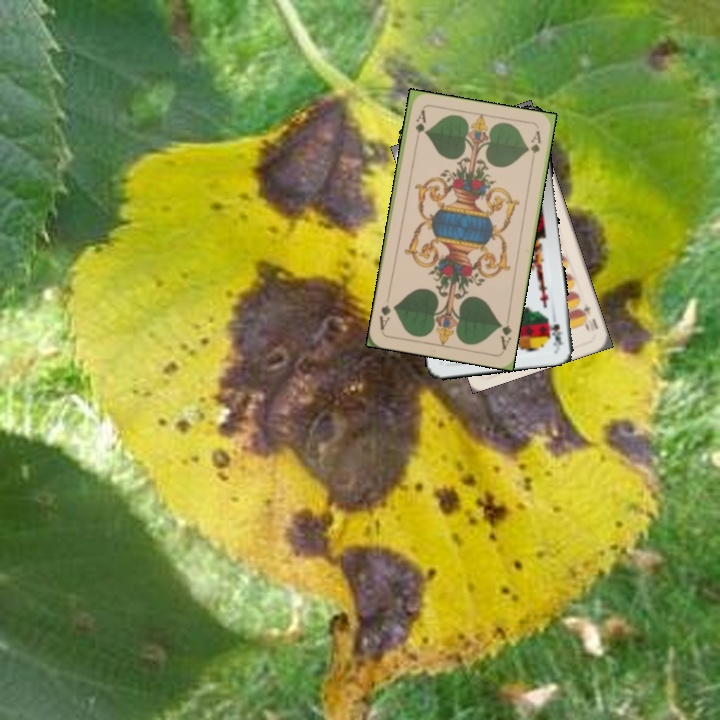E10: (575, 299, 593, 333)
GA: (495, 312, 514, 352), (411, 106, 428, 147)
SK: (547, 320, 567, 349)
